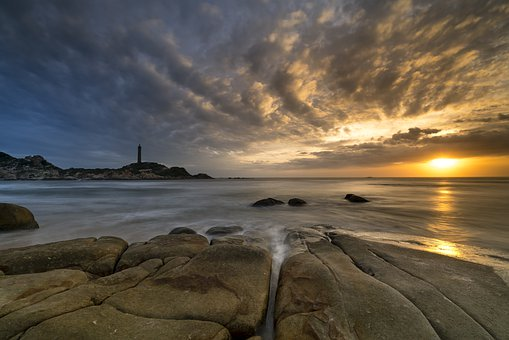sea: (8, 168, 505, 261)
sky: (5, 3, 509, 177)
stone: (16, 250, 474, 340)
